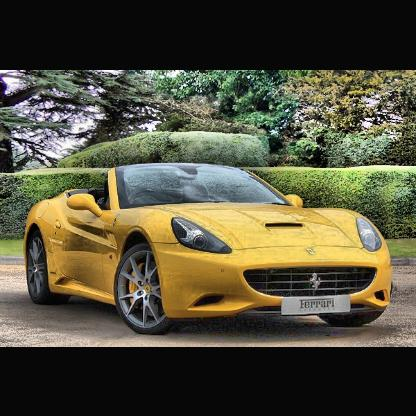Ferrari California Convertible 2012: (25, 163, 394, 336)
